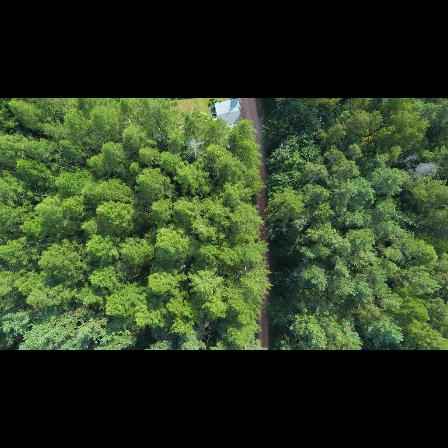Dead: (184, 133, 208, 159), (409, 161, 440, 180), (400, 150, 418, 164)
